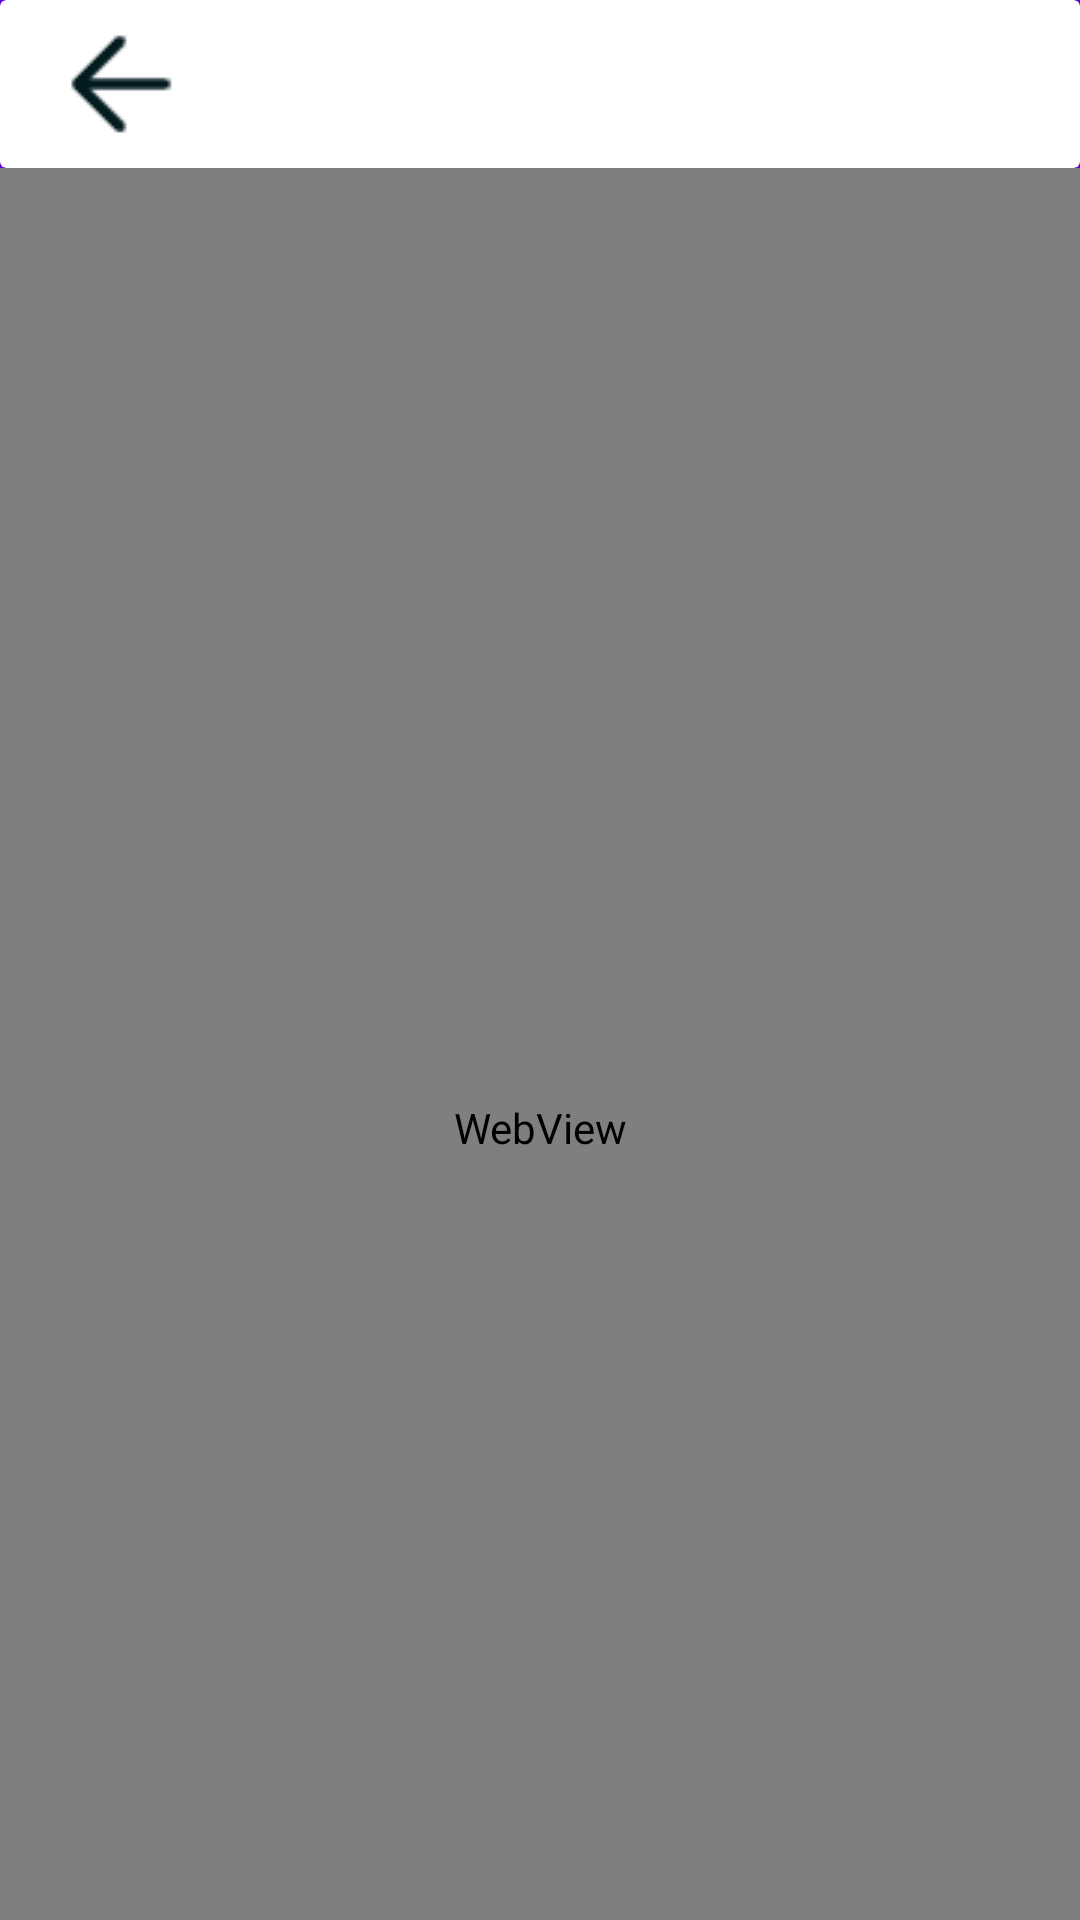

Where to tap for icons on this 1080 x 1920 app screen, as (x=x, y=y):
return: (x=121, y=84)
